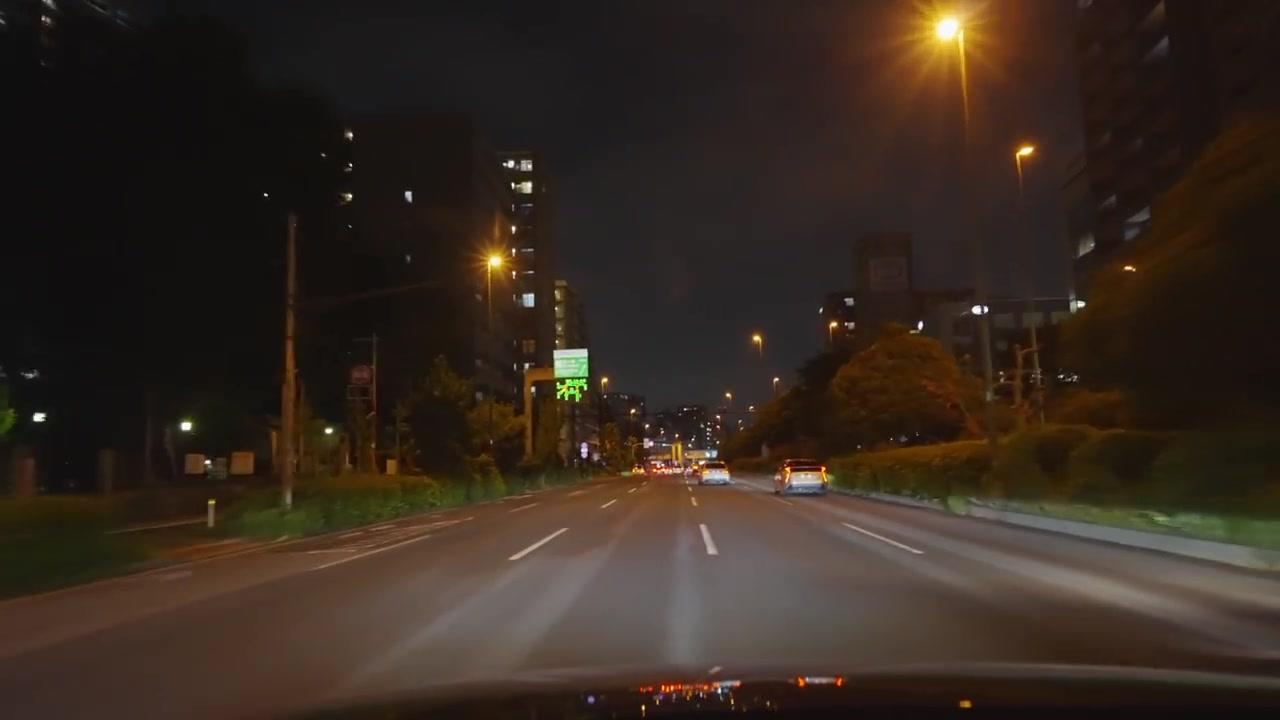bus: (775, 458, 829, 495)
car: (773, 458, 828, 496), (698, 467, 732, 485), (649, 460, 676, 476)
